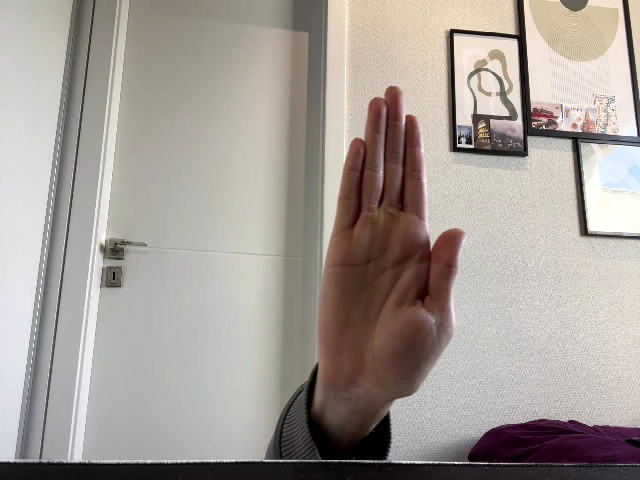B: (317, 86, 465, 402)
